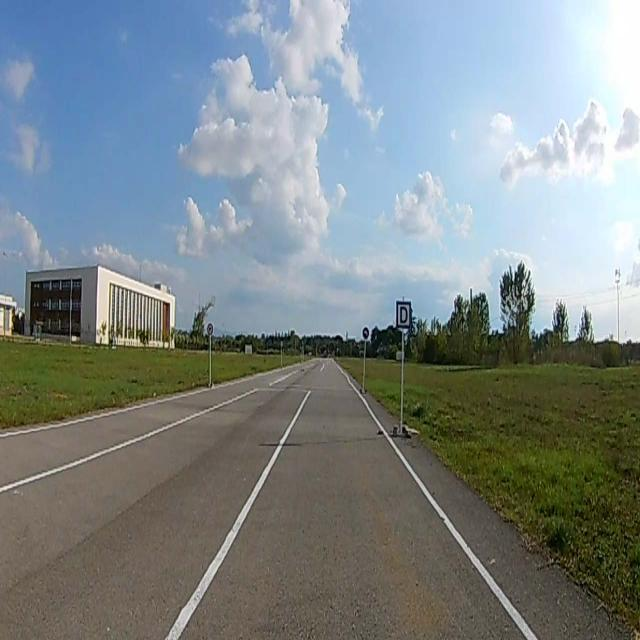durak: (396, 300, 410, 330)
